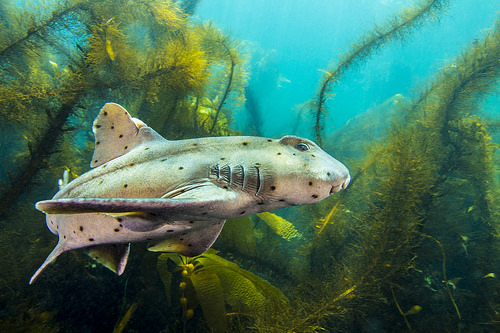shark: (22, 80, 356, 287)
